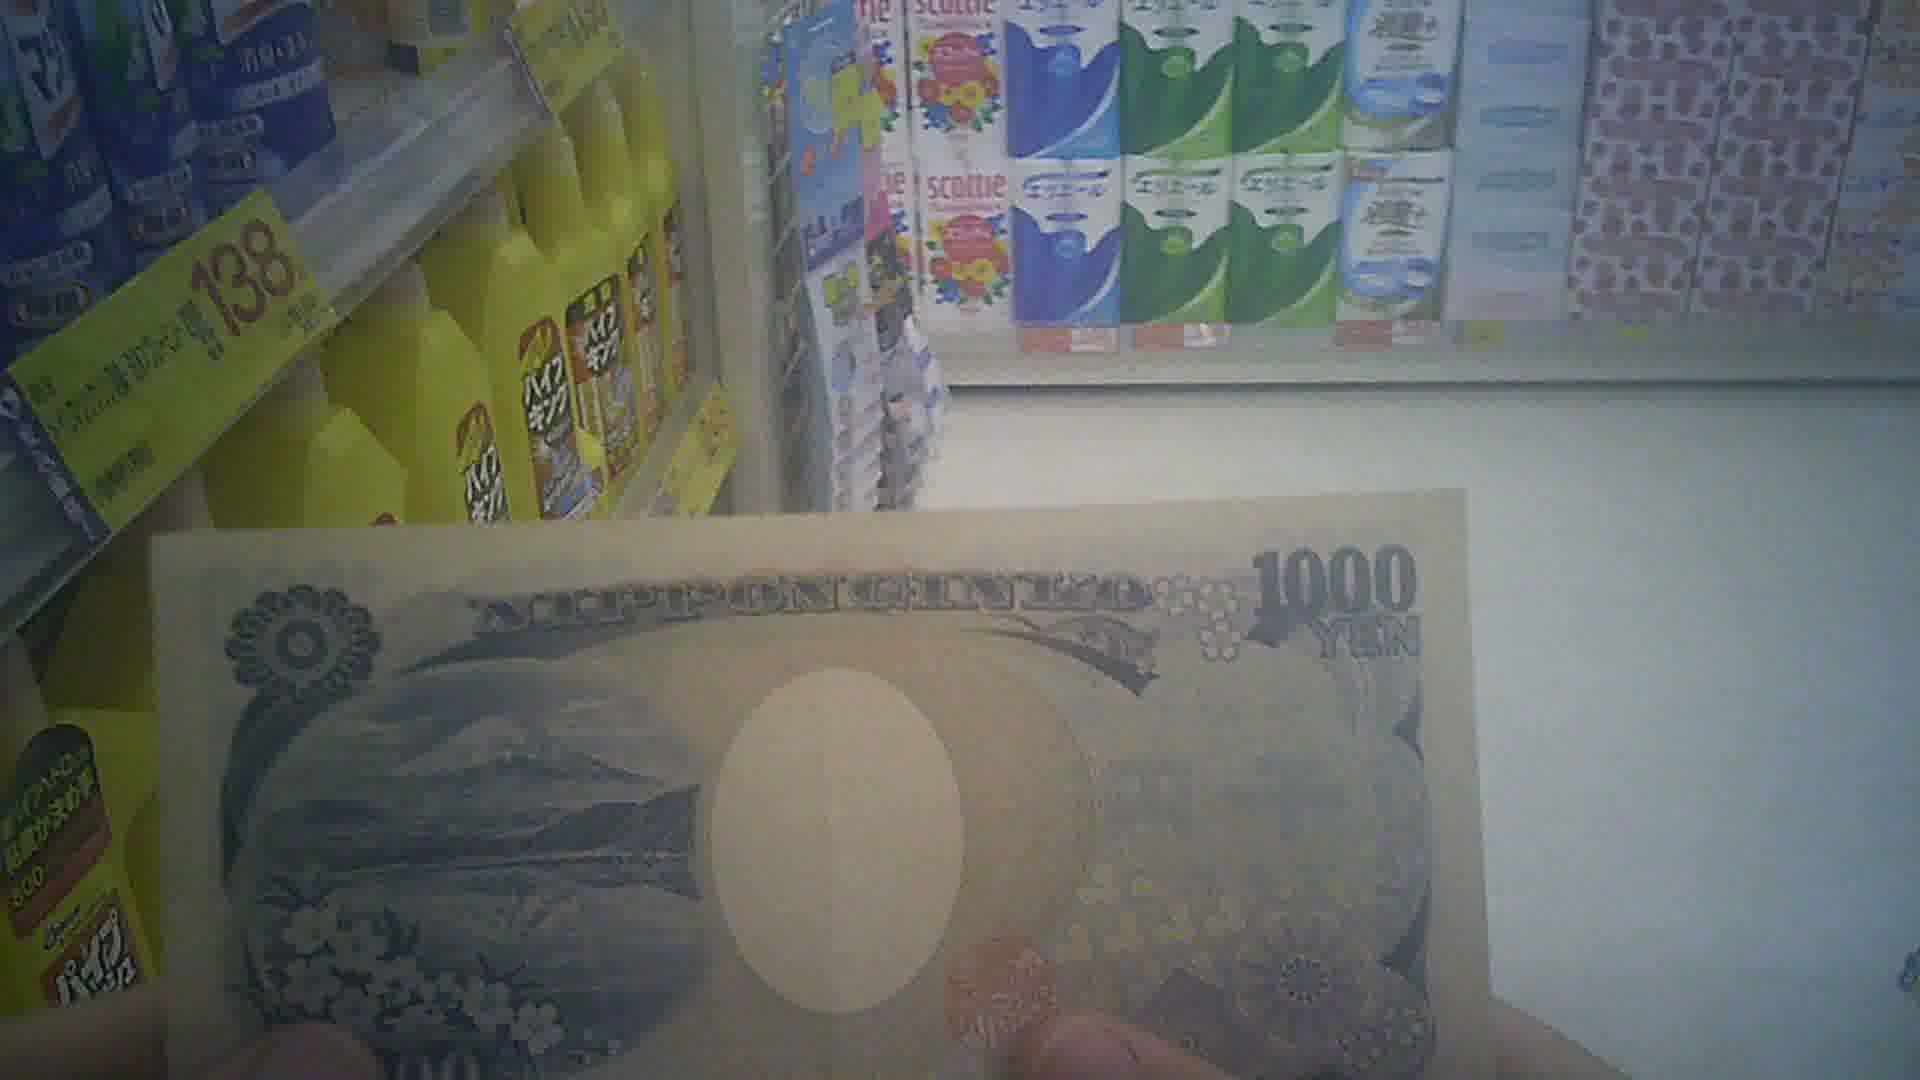1,000 Yen: (140, 489, 1522, 1076)
